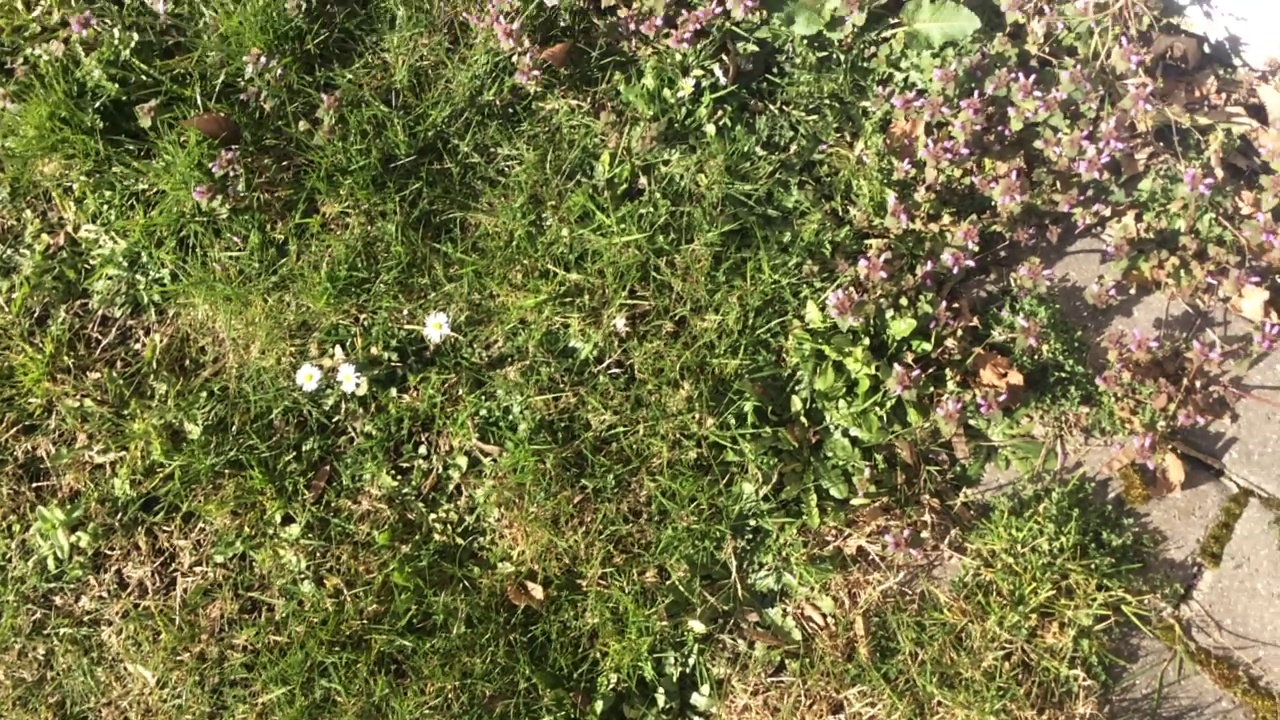rumex: (795, 1, 983, 51)
